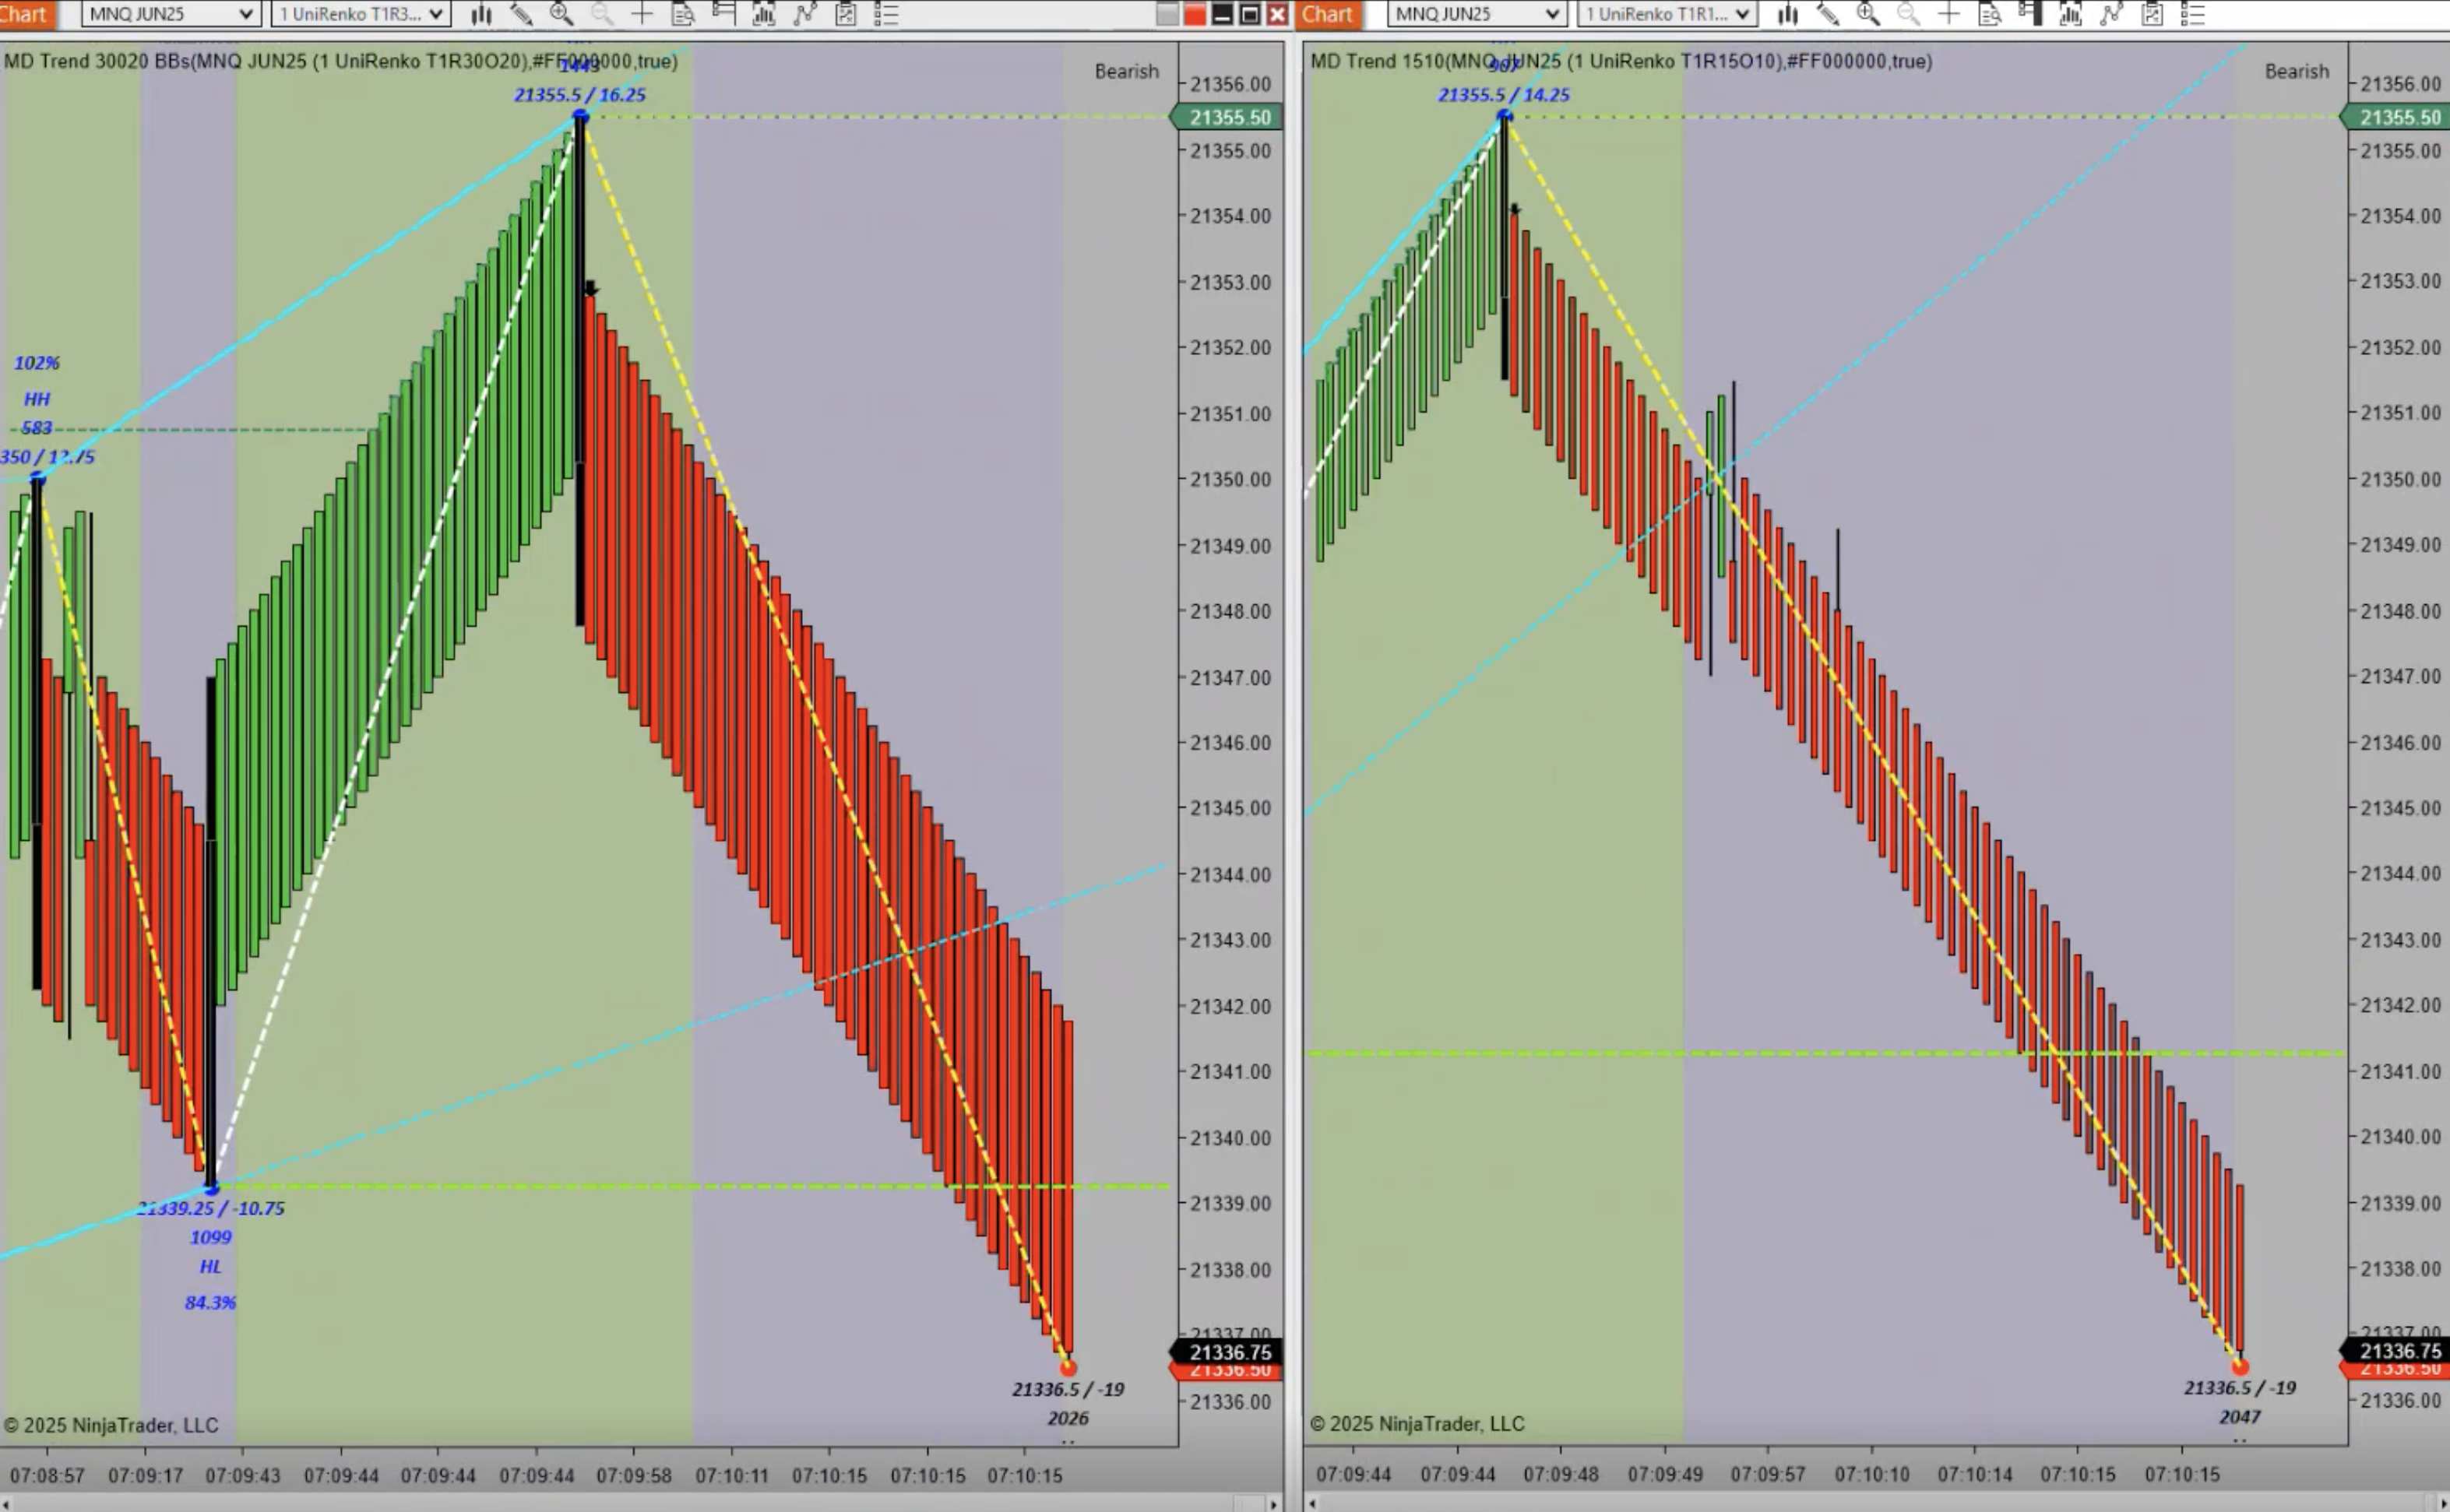candle: (198, 672, 227, 1193), (24, 469, 49, 1001), (572, 107, 597, 628), (1495, 107, 1526, 390)
